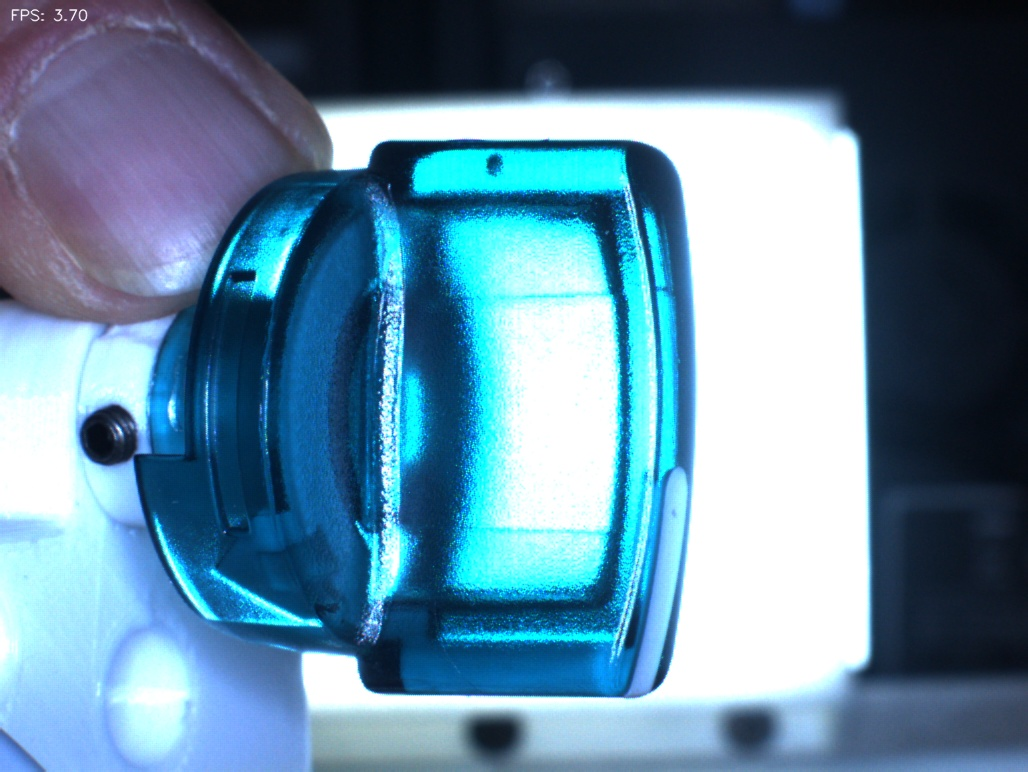Bulle: (454, 106, 538, 211)
